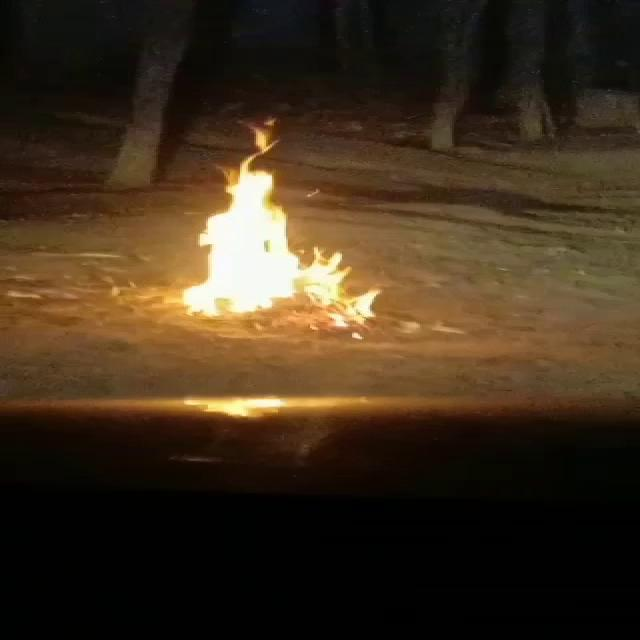Fire: (184, 138, 308, 318), (288, 252, 386, 330)
